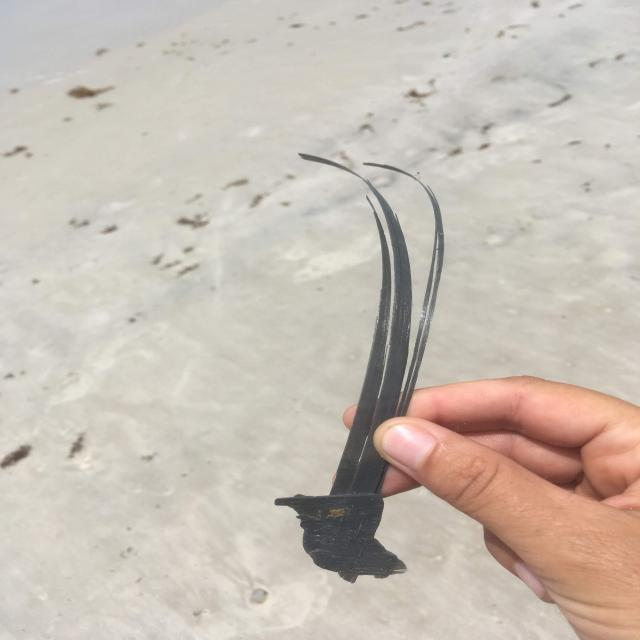litter: (274, 153, 444, 583)
